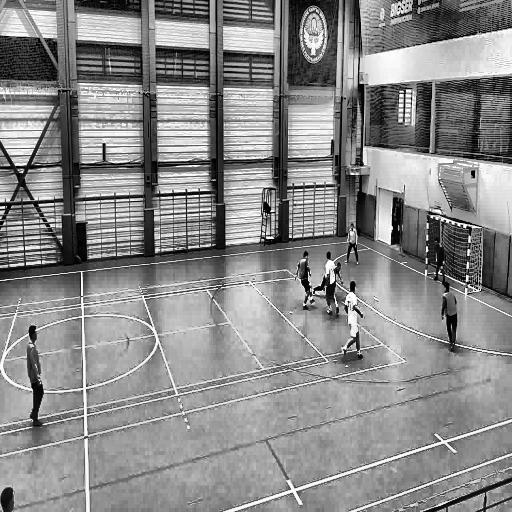player: (23, 324, 46, 430), (342, 280, 365, 362), (440, 280, 459, 354), (294, 249, 315, 310), (323, 250, 340, 318), (312, 262, 342, 299), (344, 222, 360, 268), (432, 236, 446, 284)
